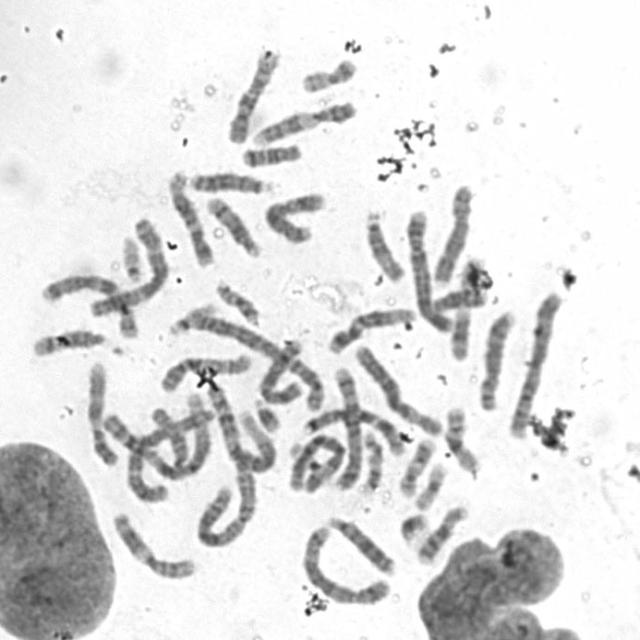A1: (104, 403, 216, 484), (199, 380, 279, 472)
A2: (185, 309, 323, 412), (194, 417, 262, 549)
A3: (121, 402, 215, 505), (84, 211, 172, 319)
B4: (504, 287, 564, 440), (404, 204, 455, 334)
B5: (297, 520, 393, 607), (328, 362, 366, 492)
C10: (222, 45, 282, 146), (157, 348, 254, 394)
C11: (106, 507, 200, 582), (447, 251, 489, 364)
C12: (164, 165, 217, 269), (322, 302, 418, 356)
C6: (350, 340, 445, 438), (284, 429, 347, 495)
C7: (37, 269, 140, 340), (296, 403, 406, 458)
C8: (429, 179, 476, 287), (474, 304, 518, 412)
C9: (247, 95, 360, 148), (80, 357, 119, 468)
D13: (322, 510, 398, 578), (184, 166, 277, 196)
D14: (202, 192, 262, 260), (28, 324, 123, 359)
D15: (133, 399, 212, 481), (360, 204, 408, 284)
E16: (414, 500, 472, 566), (441, 401, 482, 474)
E17: (393, 433, 437, 499), (355, 425, 385, 496)
E18: (237, 138, 305, 169), (428, 284, 488, 314)
F19: (409, 458, 450, 510), (287, 441, 333, 483)
F20: (297, 52, 360, 94), (212, 275, 263, 326)
G21: (248, 392, 284, 434), (395, 508, 432, 546)
G22: (164, 298, 220, 336), (117, 230, 147, 285)
X: (259, 187, 328, 246), (255, 334, 309, 406)
